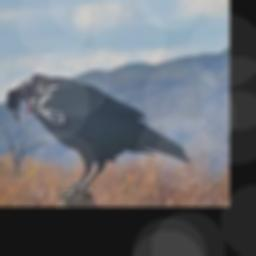Crow: (5, 71, 193, 204)
